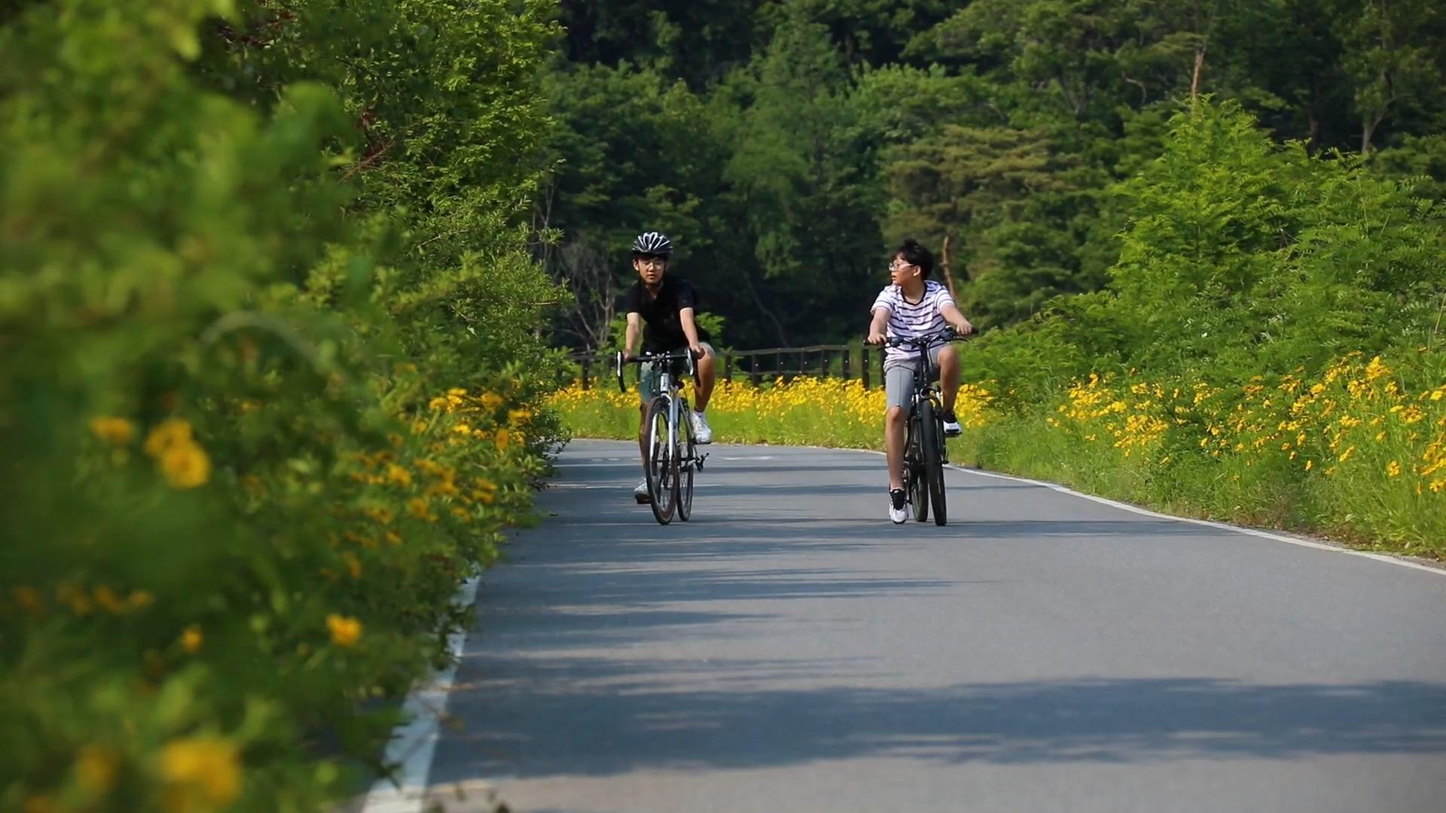bicyclist: (862, 238, 981, 528), (614, 230, 718, 526)
helmet: (632, 231, 673, 287)
no-helmet: (889, 238, 934, 286)
